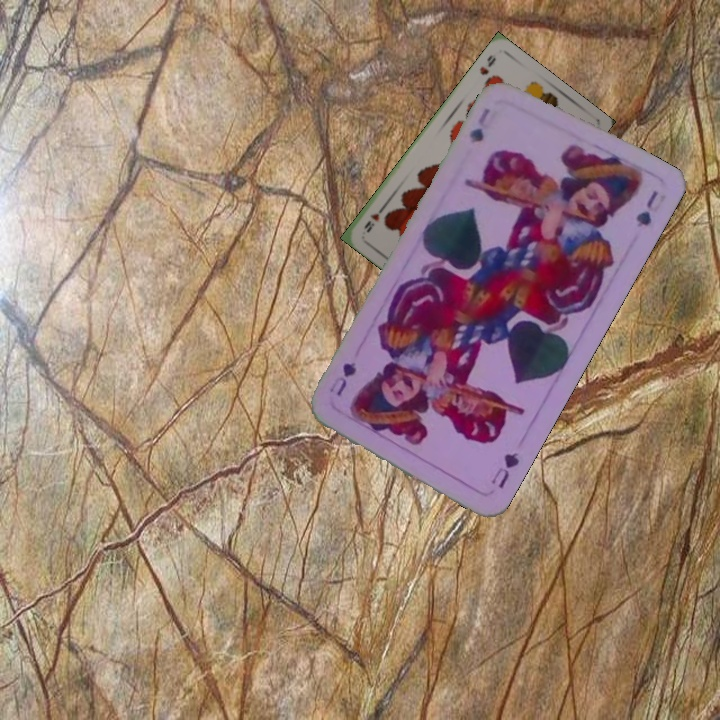GU: (486, 448, 522, 492), (465, 103, 494, 146)
H9: (476, 51, 499, 78)
